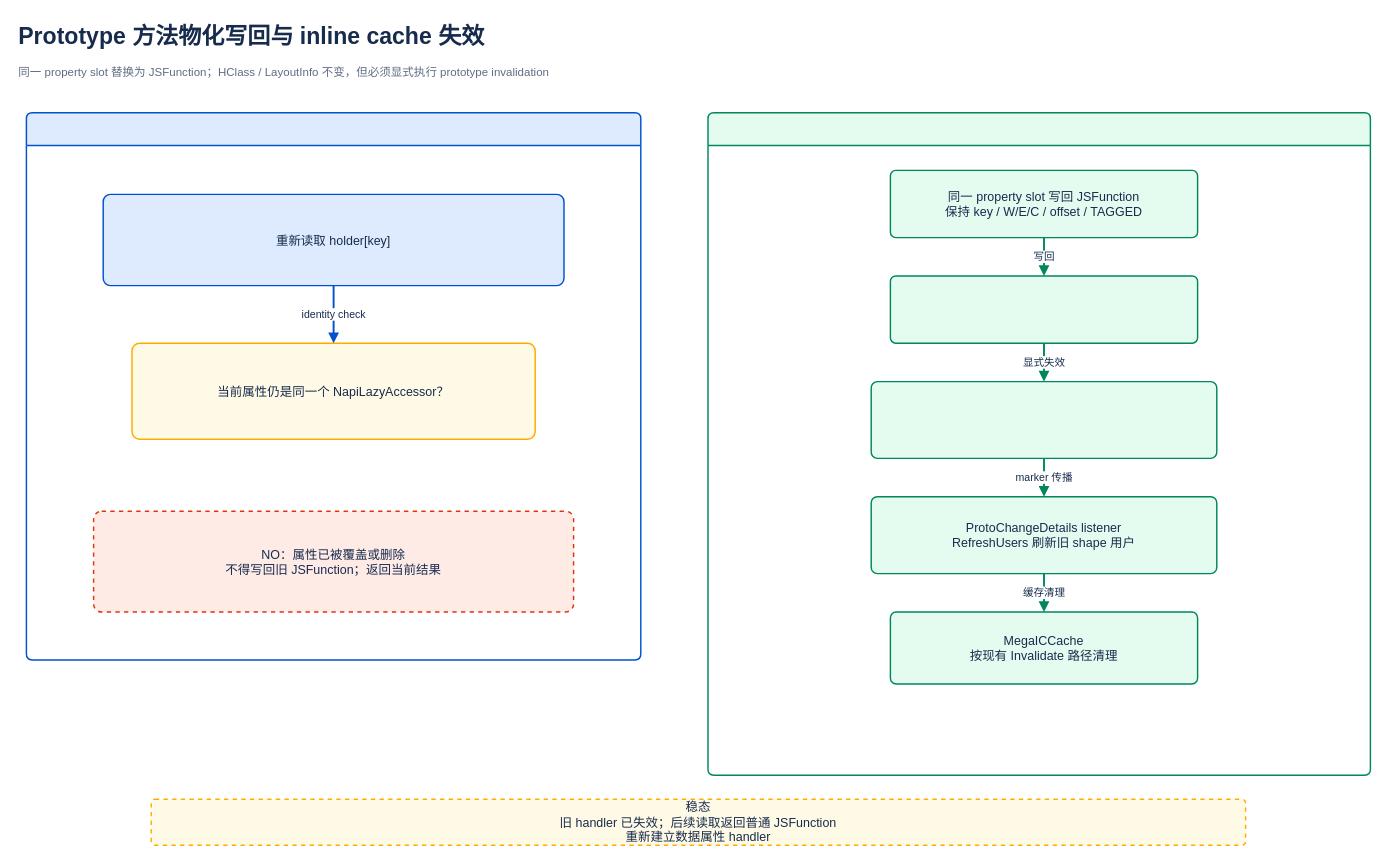
The diagram is 1396 pixels wide and 862 high, and some of its shapes have lost their labels. Each missing label, with the box of its shape:
JSHClass::MarkProtoChanged 置 marker / 失效 EnumCache: (870, 380, 1217, 459)
prototype HClass / LayoutInfo identity 与内容保持不变: (889, 275, 1198, 343)
YES：property update 与 cache invalidation: (707, 112, 1371, 775)
写回前 identity check: (25, 112, 641, 660)
